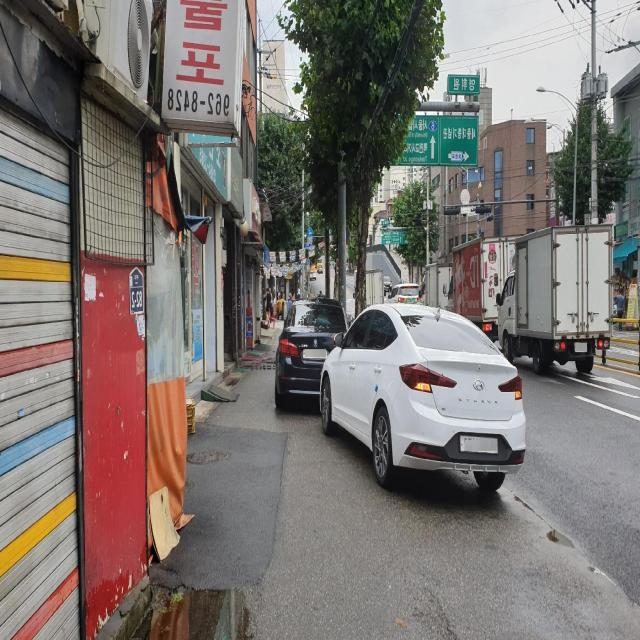car ahead at: (319, 296, 526, 504)
